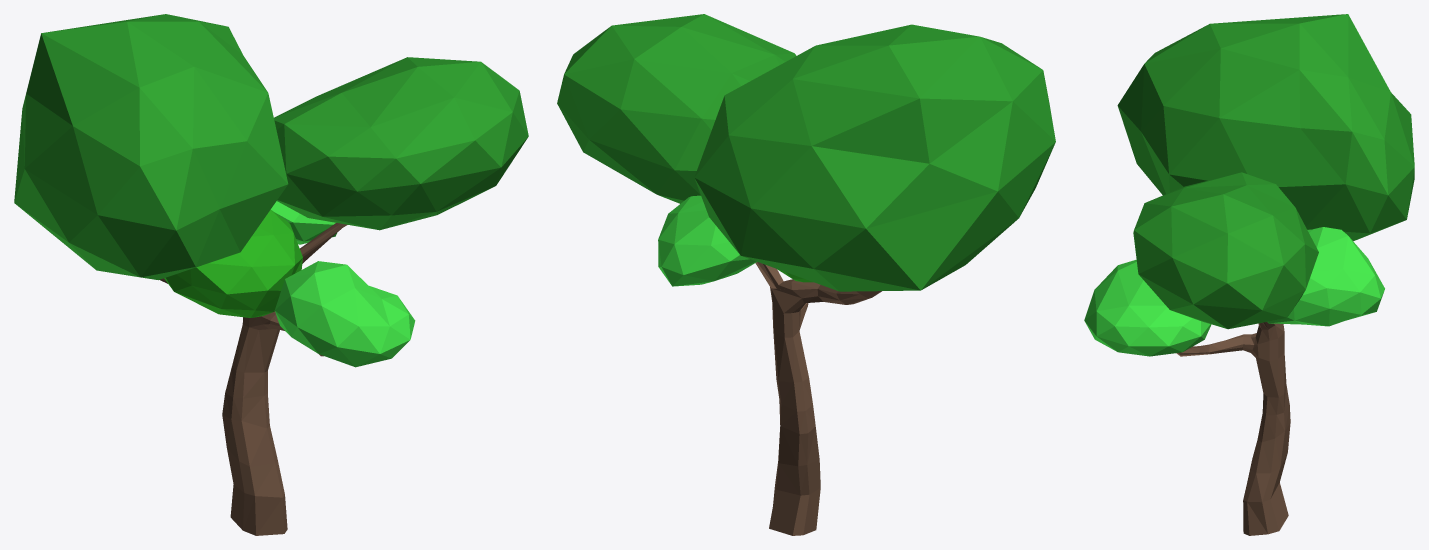
Rendered from treeC.glb.
The picture shows the model from 3 angles, left to right: view 1: azimuth 30°, elevation 25°; view 2: azimuth 150°, elevation 25°; view 3: azimuth 270°, elevation 25°; orthographic projection. The views are drawn at different scales.
Parts seen in each view (by area): view 1: Icosphere.002, Icosphere.001, Cube, Icosphere, Icosphere.004, Icosphere.003; view 2: Icosphere.002, Icosphere.001, Cube, Icosphere.003; view 3: Icosphere.002, Icosphere.001, Cube, Icosphere, Icosphere.003.
Boxes of the visible parts, x1,y1,x2,y2 form: Icosphere.002: [14, 14, 288, 280]; Icosphere.001: [274, 57, 528, 230]; Cube: [159, 223, 347, 535]; Icosphere: [274, 261, 415, 367]; Icosphere.004: [164, 209, 302, 317]; Icosphere.003: [271, 201, 336, 244]; Icosphere.002: [694, 24, 1055, 291]; Icosphere.001: [557, 14, 796, 203]; Cube: [755, 262, 881, 535]; Icosphere.003: [658, 195, 756, 286]; Icosphere.002: [1117, 14, 1414, 241]; Icosphere.001: [1133, 172, 1318, 329]; Cube: [1176, 322, 1290, 535]; Icosphere: [1084, 259, 1211, 356]; Icosphere.003: [1267, 227, 1384, 326].
Bounding box in the file's own units: 6.37 × 6.93 × 4.55.
